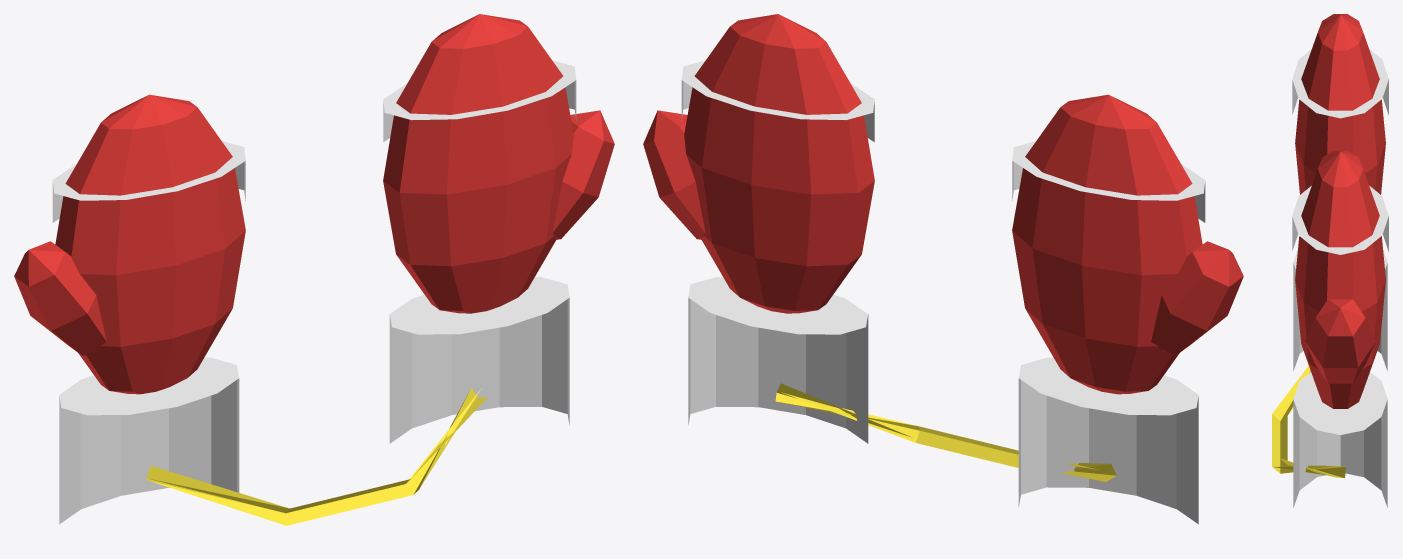
File: vante.glb
3 renders of one model, left to right at view 1: azimuth 30°, elevation 25°; view 2: azimuth 150°, elevation 25°; view 3: azimuth 270°, elevation 25°, orthographic. The views are drawn at different scales.
Parts seen in each view (by area): view 1: vante; view 2: vante; view 3: vante.
Boxes of the visible parts, left/top/right/bottom form: vante: left=14, top=14, right=614, bottom=525; vante: left=643, top=14, right=1243, bottom=524; vante: left=1272, top=14, right=1388, bottom=507.
Bounding box in the file's own units: 0.5673 × 0.3979 × 0.1156.
